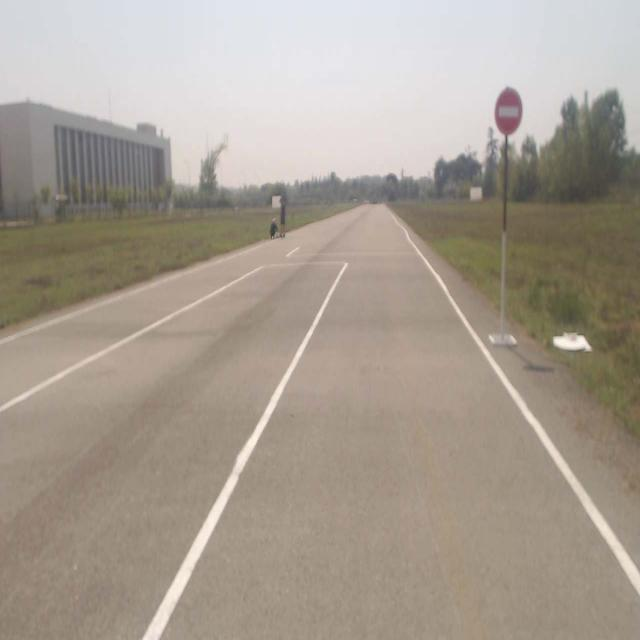girisyok: (496, 88, 522, 133)
